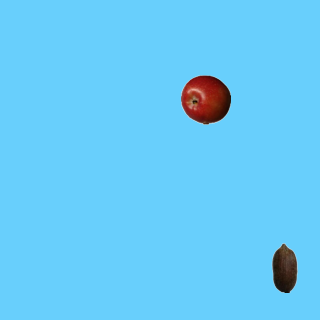Apple Braeburn: (180, 74, 230, 124)
Nut Pecan: (259, 242, 309, 292)
